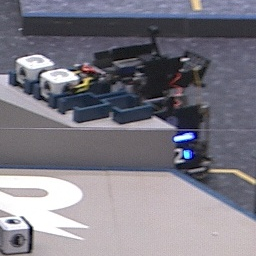Blue: (174, 147, 195, 165)
Robot: (81, 34, 216, 182)
